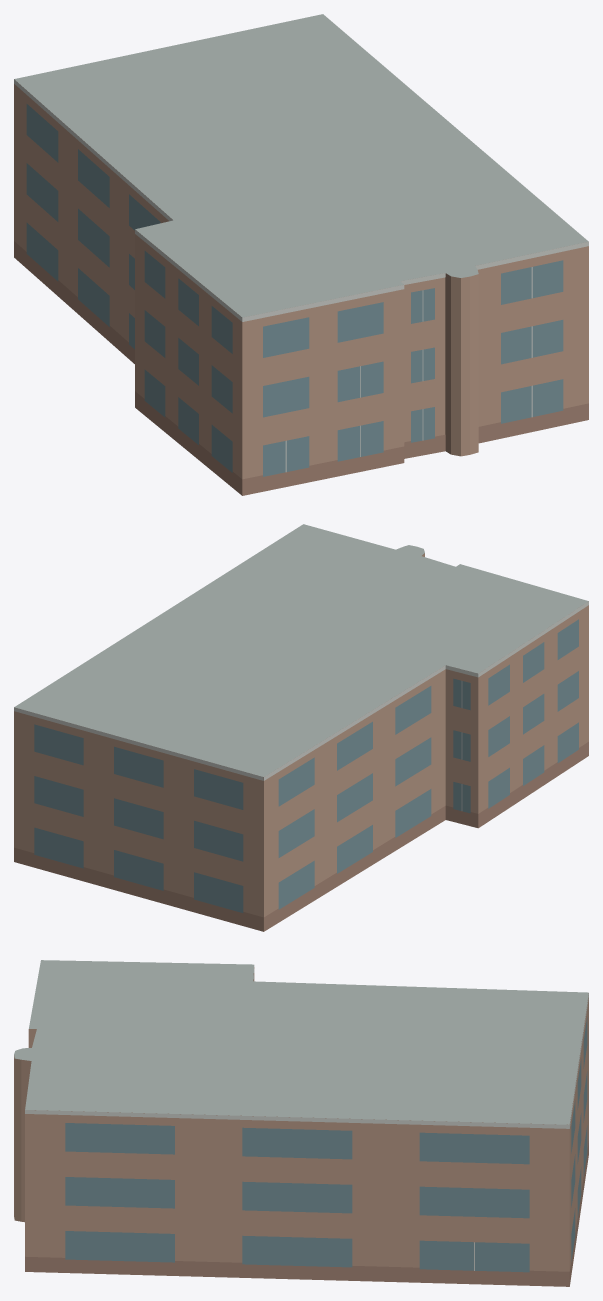
Rendered from survey-upis-32907083.glb.
3 views of the same model, one above another, from view 1: azimuth 30°, elevation 25°; view 2: azimuth 150°, elevation 25°; view 3: azimuth 270°, elevation 25° (orthographic). The views are drawn at different scales.
Parts seen in each view (by area): view 1: survey-upis-32907083.tmp; view 2: survey-upis-32907083.tmp; view 3: survey-upis-32907083.tmp.
Part boxes in pixels (x1,y1,x2,y2): survey-upis-32907083.tmp: (14, 14, 588, 495); survey-upis-32907083.tmp: (14, 524, 588, 931); survey-upis-32907083.tmp: (14, 960, 588, 1286).
Bounding box in the file's own units: 21.16 × 9.7 × 31.2.
